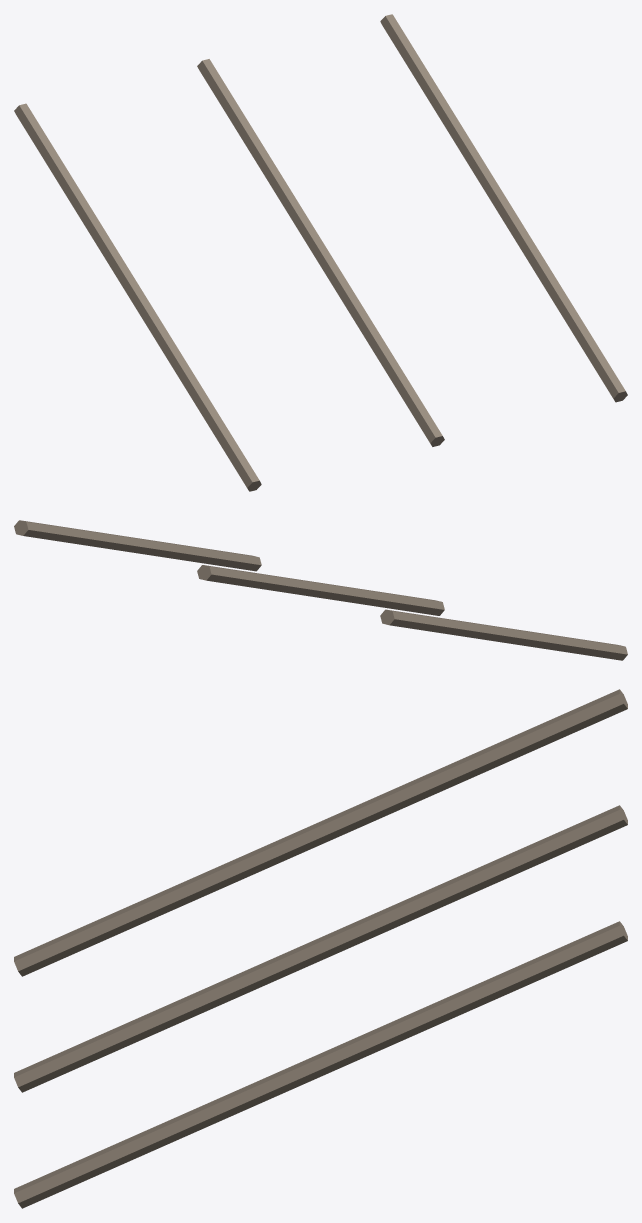
Rendered from tejado_frame.glb.
3 renders of one model, top to bottom at view 1: azimuth 30°, elevation 25°; view 2: azimuth 150°, elevation 25°; view 3: azimuth 270°, elevation 25°, orthographic. The views are drawn at different scales.
Parts seen in each view (by area): view 1: tejado_frame; view 2: tejado_frame; view 3: tejado_frame.
Part boxes in pixels (<box>): tejado_frame: <box>14,14,627,491</box>; tejado_frame: <box>14,520,627,660</box>; tejado_frame: <box>14,689,627,1208</box>.
Size of the model in its own units: 2.37 by 1.3 by 2.55.
